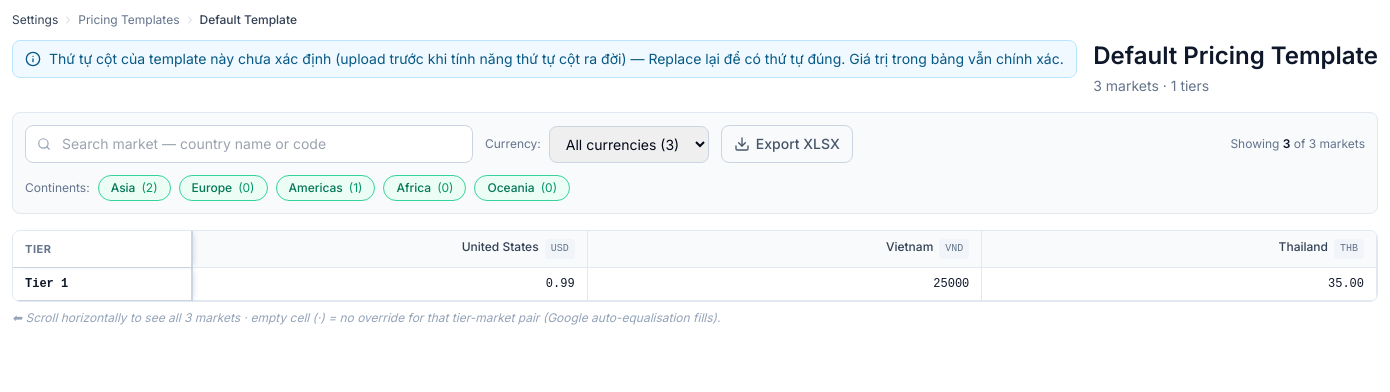
Scenario: nhãn nút › 0 nước sau bộ lọc → nút disabled (route trả 400 cho mảng rỗng)
This screenshot has width=1390, height=392.
In the field with placeholder "Search market — country name or code": (249, 144) x1=25 y1=125 x2=473 y2=163, type "khong-co-nuoc-nao-ten-nhu-vay"
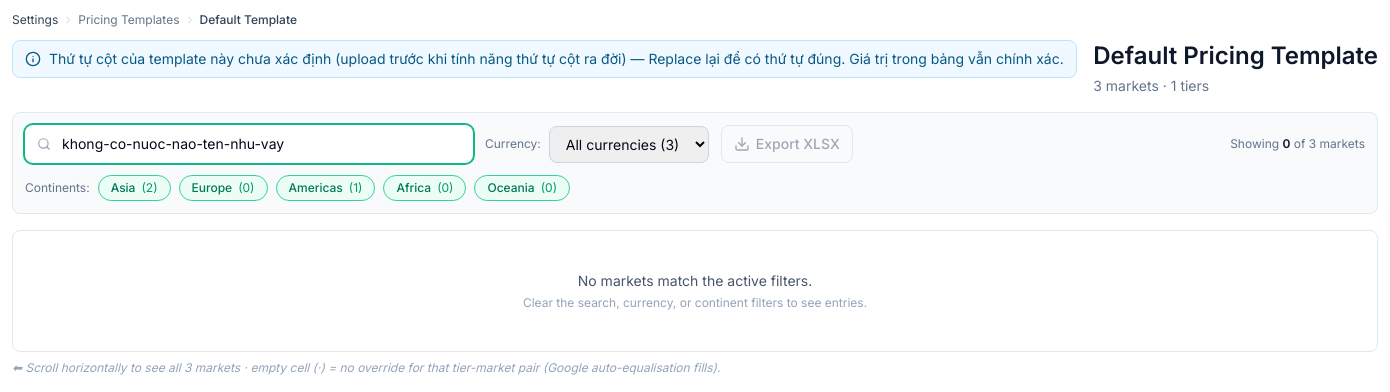
expect the button "Export XLSX" is disabled: met, box x1=721 y1=125 x2=853 y2=163
